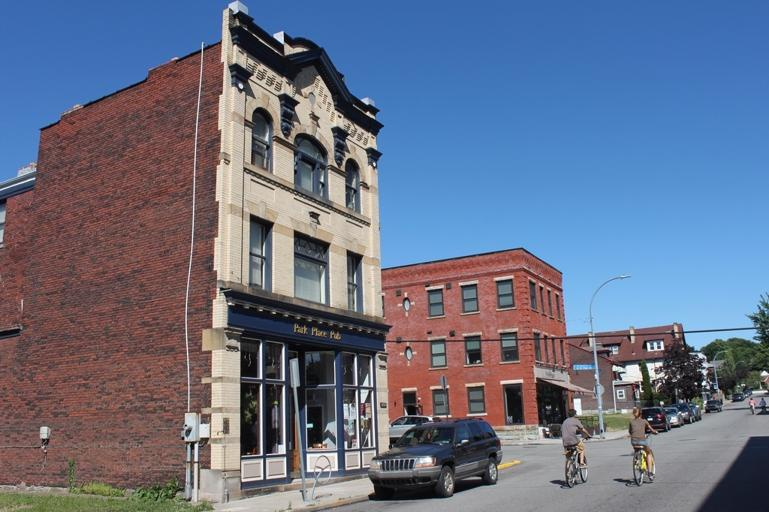non-vehicle: (562, 437, 588, 488), (632, 431, 654, 487), (759, 404, 767, 413), (748, 404, 755, 414)
